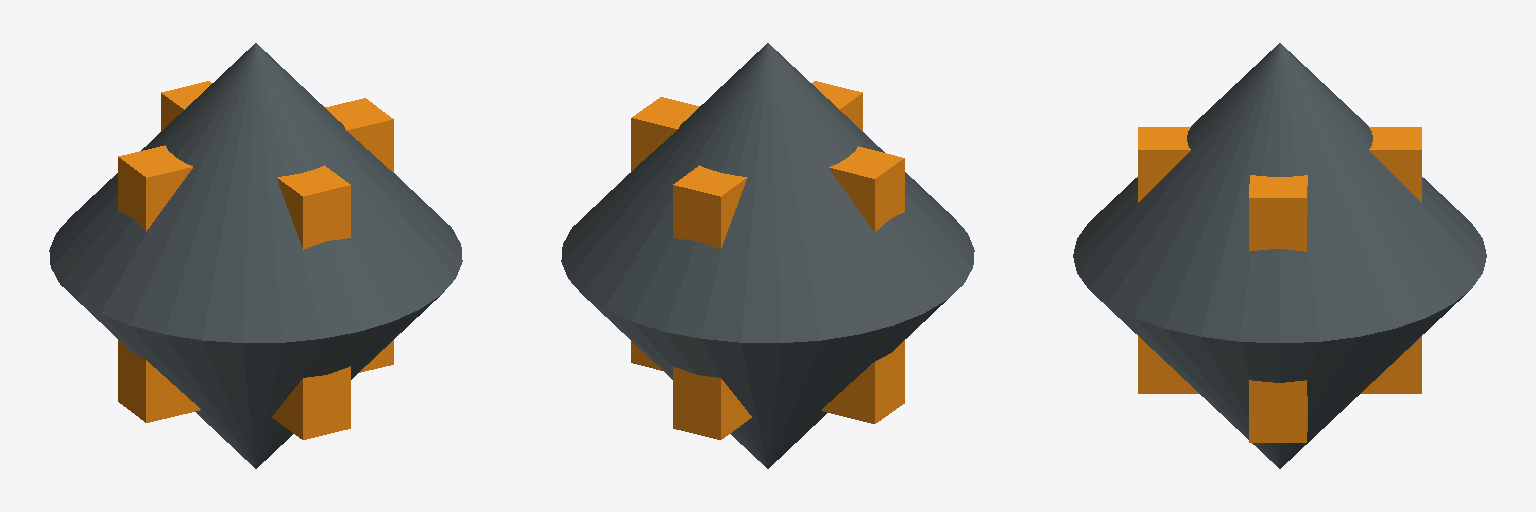
Rendered from DamageBlock.obj.
The picture shows the model from 3 angles: view 1: azimuth 30°, elevation 25°; view 2: azimuth 150°, elevation 25°; view 3: azimuth 270°, elevation 25°; orthographic projection.
Visible parts, largest first — view 1: 円錐, 立方体_立方体.002; view 2: 円錐, 立方体_立方体.002; view 3: 円錐, 立方体_立方体.002.
Part boxes in pixels (left/top/right/bottom): 円錐: left=49, top=43, right=462, bottom=468; 立方体_立方体.002: left=118, top=81, right=393, bottom=439; 円錐: left=561, top=43, right=974, bottom=468; 立方体_立方体.002: left=631, top=81, right=904, bottom=439; 円錐: left=1073, top=43, right=1486, bottom=468; 立方体_立方体.002: left=1138, top=127, right=1421, bottom=442.
Bounding box in the file's own units: 4.19 × 4.77 × 4.19.